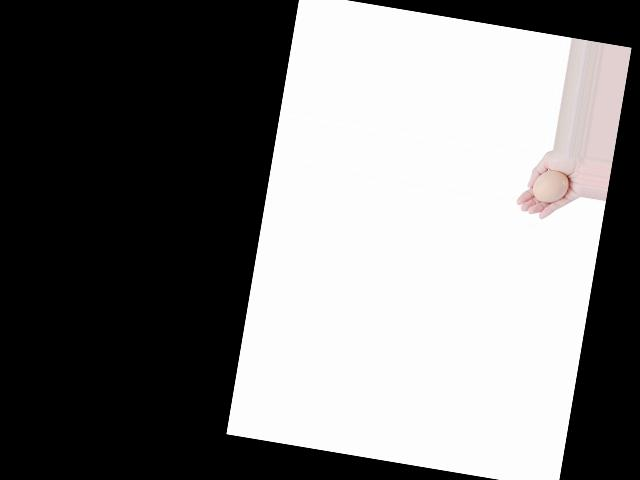egg: (531, 167, 570, 206)
